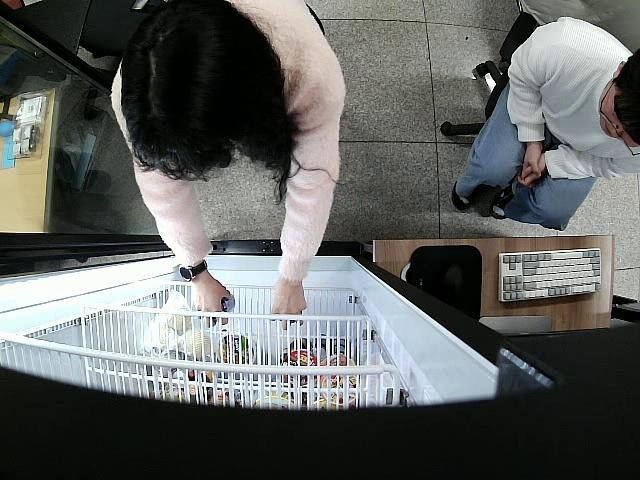00_hand: (270, 281, 309, 331), (193, 283, 233, 329)
